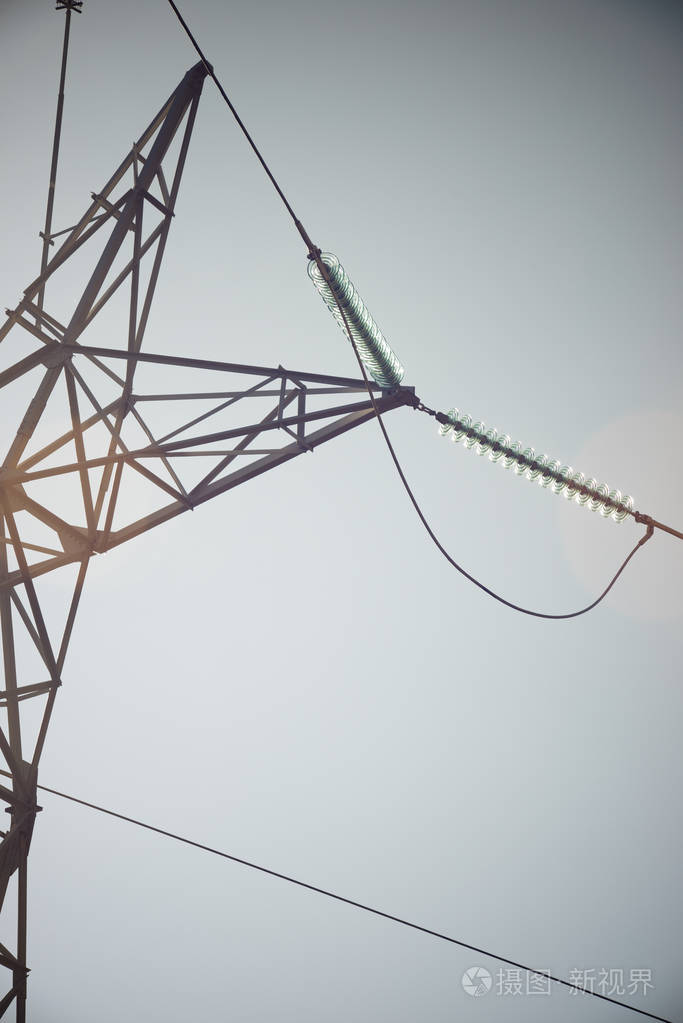insulator: (439, 404, 632, 525), (305, 254, 403, 386)
